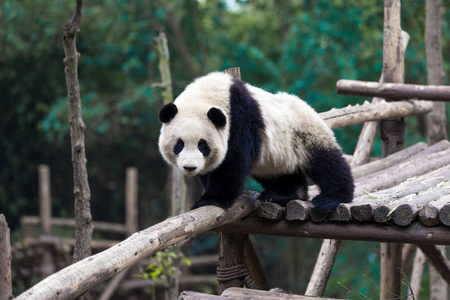panda: (148, 69, 367, 232)
